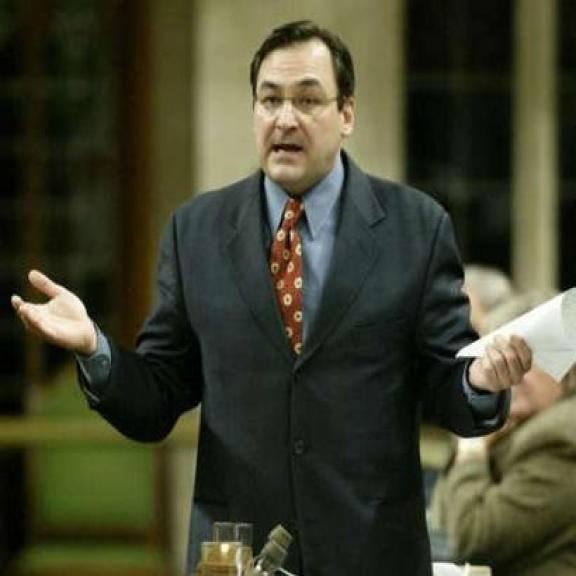face: (254, 22, 356, 191)
